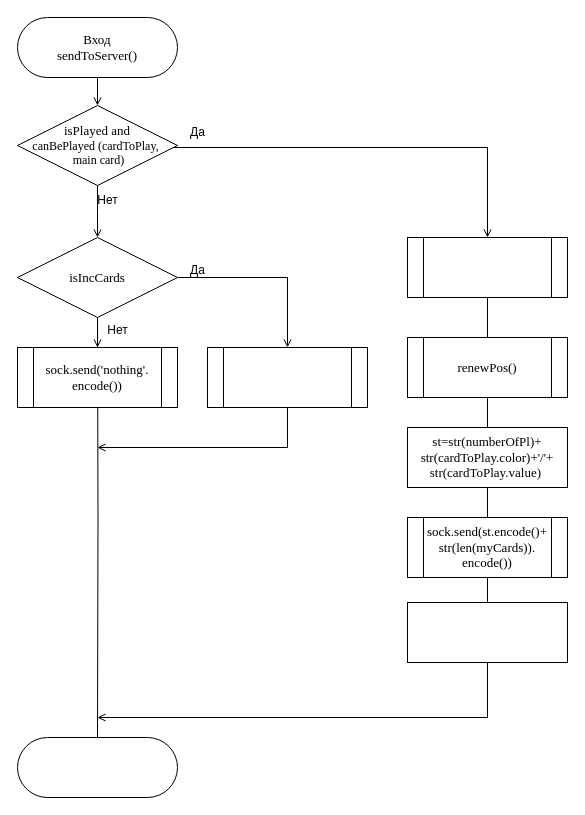
Some shapes in this 585 by 815 pixel diagram are drawn without their labels. Here are the shapes that lost their labels. From the top down, the centre of each, then its label:
the point at 487,267: delFromPl(cardToPlay)
the point at 287,377: sock.send('putting'. encode())
the point at 487,632: isMyPut = False
the point at 97,767: Выход sendToServer()
